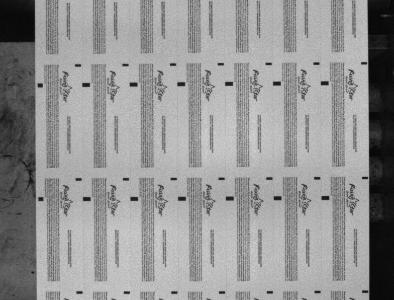incorrect qblock: (37, 83, 43, 87), (38, 197, 43, 201)
qblock: (130, 196, 139, 201), (129, 82, 138, 87), (273, 81, 282, 86), (225, 81, 234, 86), (83, 196, 91, 201), (178, 196, 186, 201), (322, 195, 330, 200), (82, 82, 90, 87), (177, 82, 186, 86), (226, 196, 234, 200), (274, 196, 282, 200), (321, 81, 329, 85)
smallqblock: (361, 61, 368, 65), (218, 62, 224, 66), (170, 177, 178, 180), (267, 290, 274, 293), (171, 291, 178, 294), (76, 291, 83, 294), (315, 290, 322, 293), (219, 291, 226, 294), (362, 290, 369, 293), (122, 63, 129, 66), (170, 63, 177, 66), (75, 178, 82, 181), (266, 177, 273, 180), (314, 176, 321, 179), (218, 177, 225, 180), (362, 176, 369, 179), (75, 64, 81, 67), (124, 291, 130, 294), (314, 62, 320, 65), (266, 62, 272, 65), (123, 178, 130, 180)
